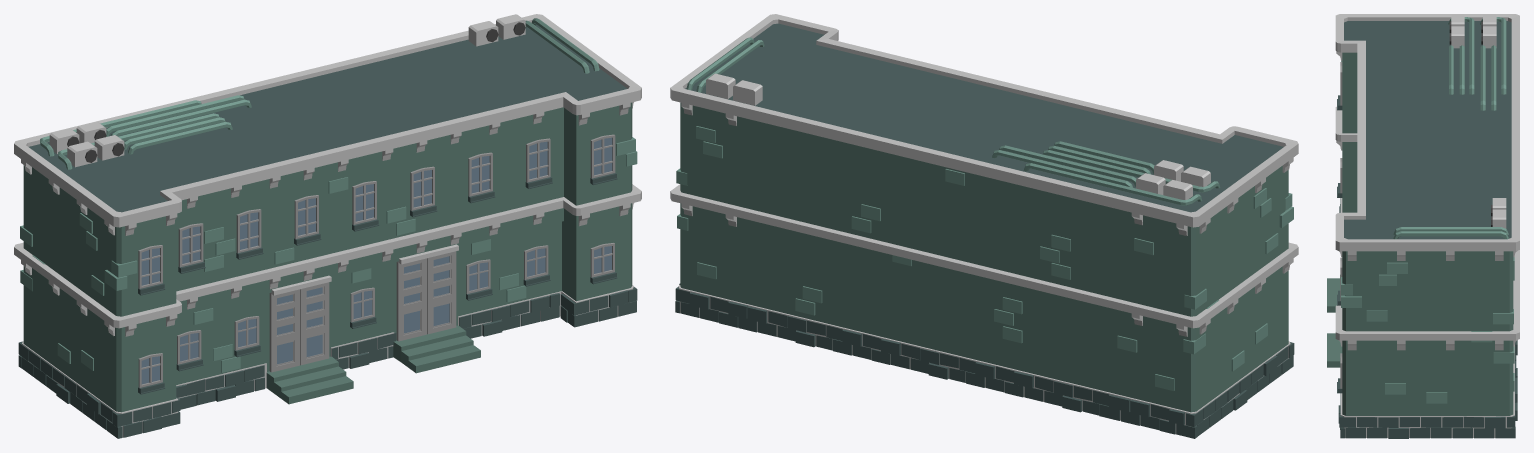
Rendered from 2Story_Wide_2Doors_Mat.glb.
3 views of the same model, side by side, from view 1: azimuth 30°, elevation 25°; view 2: azimuth 150°, elevation 25°; view 3: azimuth 270°, elevation 25° (orthographic). The views are drawn at different scales.
Visible parts, largest first — view 1: 2Story_Wide_2Doors_Mat; view 2: 2Story_Wide_2Doors_Mat; view 3: 2Story_Wide_2Doors_Mat.
Part boxes in pixels (x1,y1,x2,y2): 2Story_Wide_2Doors_Mat: (14, 14, 641, 438); 2Story_Wide_2Doors_Mat: (670, 14, 1298, 438); 2Story_Wide_2Doors_Mat: (1327, 14, 1519, 438).
Size of the model in its own units: 7 by 3 by 2.5.
